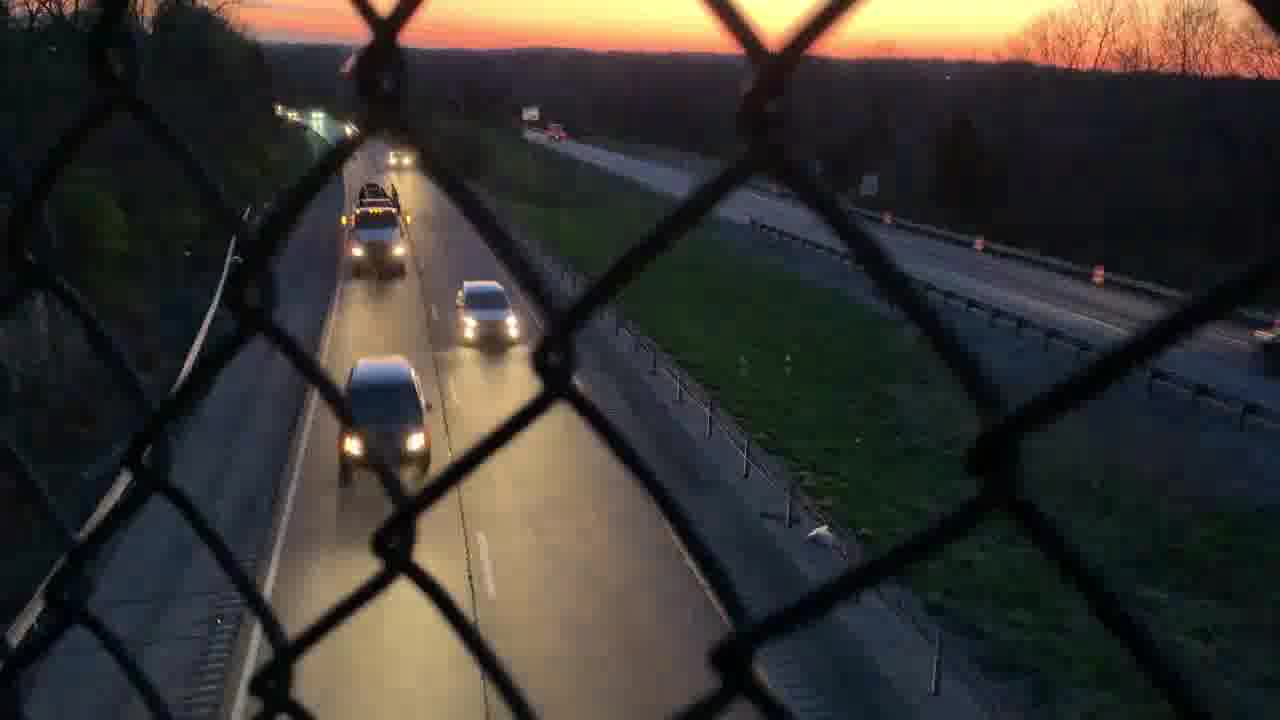heavyTruck: (341, 182, 412, 280)
largeCar: (336, 356, 439, 480), (451, 282, 524, 353)
